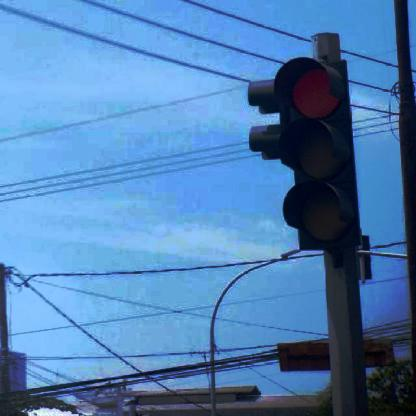Traffic Light -Red-: (273, 57, 362, 248)
